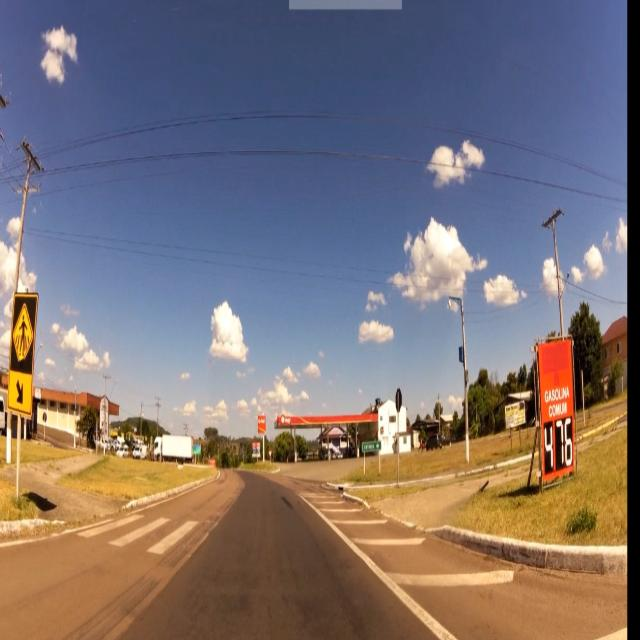A-32b: (11, 300, 33, 370)
